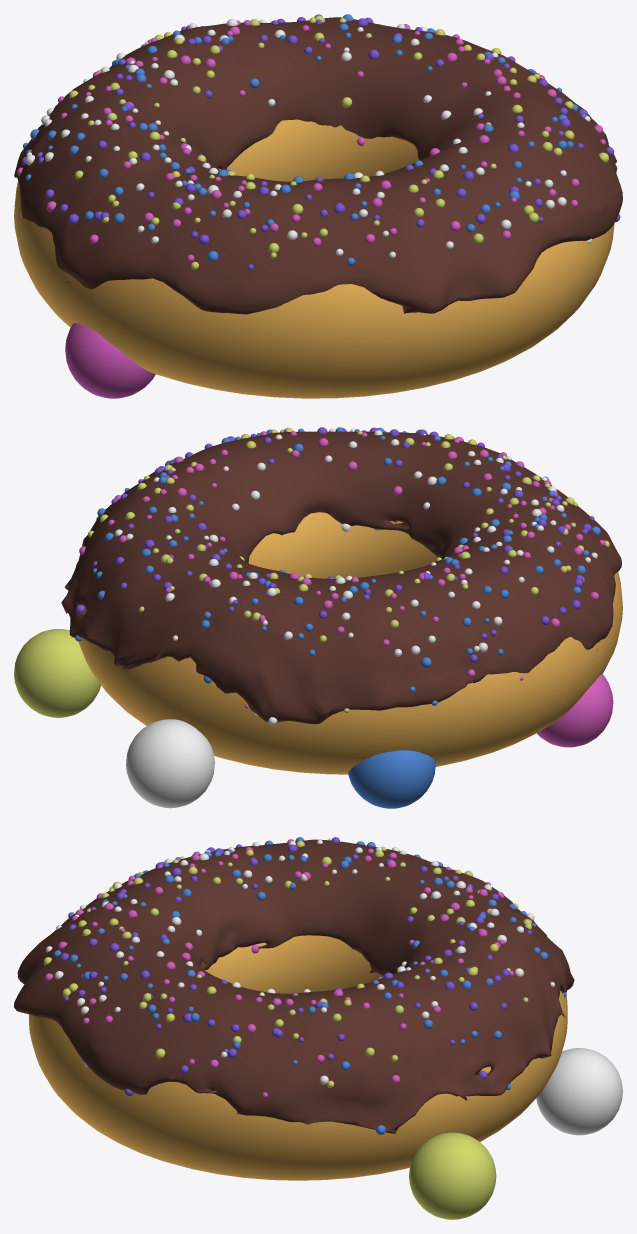
The model's file is Donut.fbx.
3 renders of one model, top to bottom at view 1: azimuth 30°, elevation 25°; view 2: azimuth 150°, elevation 25°; view 3: azimuth 270°, elevation 25°, orthographic. The views are drawn at different scales.
Parts seen in each view (by area): view 1: Fluid, Donut, Sphere.006; view 2: Fluid, Donut, Sphere, Sphere.003, Sphere.001, Sphere.006; view 3: Fluid, Donut, Sphere.003, Sphere.
Boxes of the visible parts, x1=… form: Fluid: x1=14, y1=17, x2=622, y2=314; Donut: x1=14, y1=119, x2=614, y2=398; Sphere.006: x1=65, y1=323, x2=155, y2=398; Fluid: x1=61, y1=431, x2=621, y2=724; Donut: x1=78, y1=512, x2=622, y2=774; Sphere: x1=126, y1=719, x2=214, y2=808; Sphere.003: x1=14, y1=629, x2=101, y2=717; Sphere.001: x1=348, y1=750, x2=435, y2=808; Sphere.006: x1=537, y1=674, x2=613, y2=747; Fluid: x1=14, y1=839, x2=574, y2=1133; Donut: x1=29, y1=935, x2=567, y2=1180; Sphere.003: x1=409, y1=1132, x2=496, y2=1219; Sphere: x1=536, y1=1048, x2=622, y2=1135.
Bounding box in the file's own units: 405 × 157 × 444.
